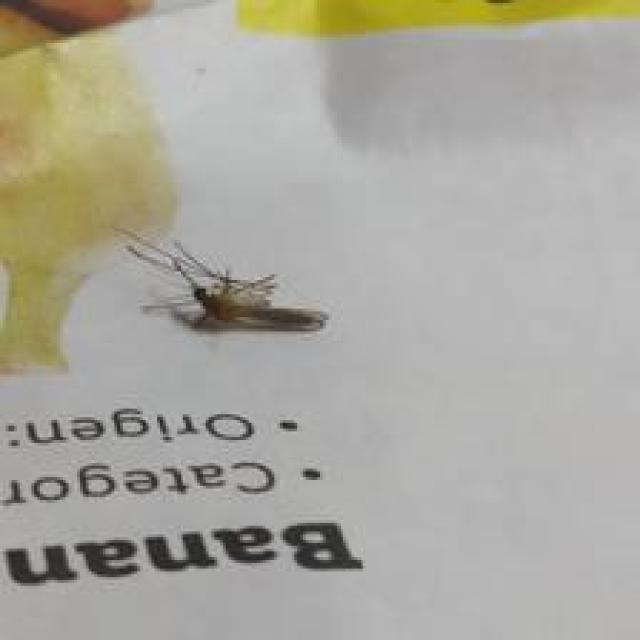Culex: (116, 226, 330, 334)
